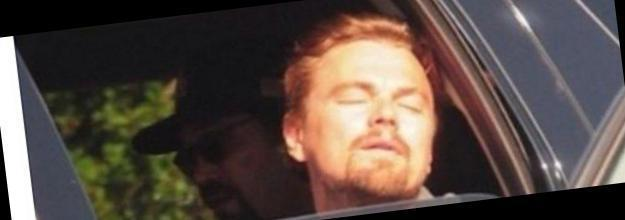Drunk: (320, 46, 433, 198)
